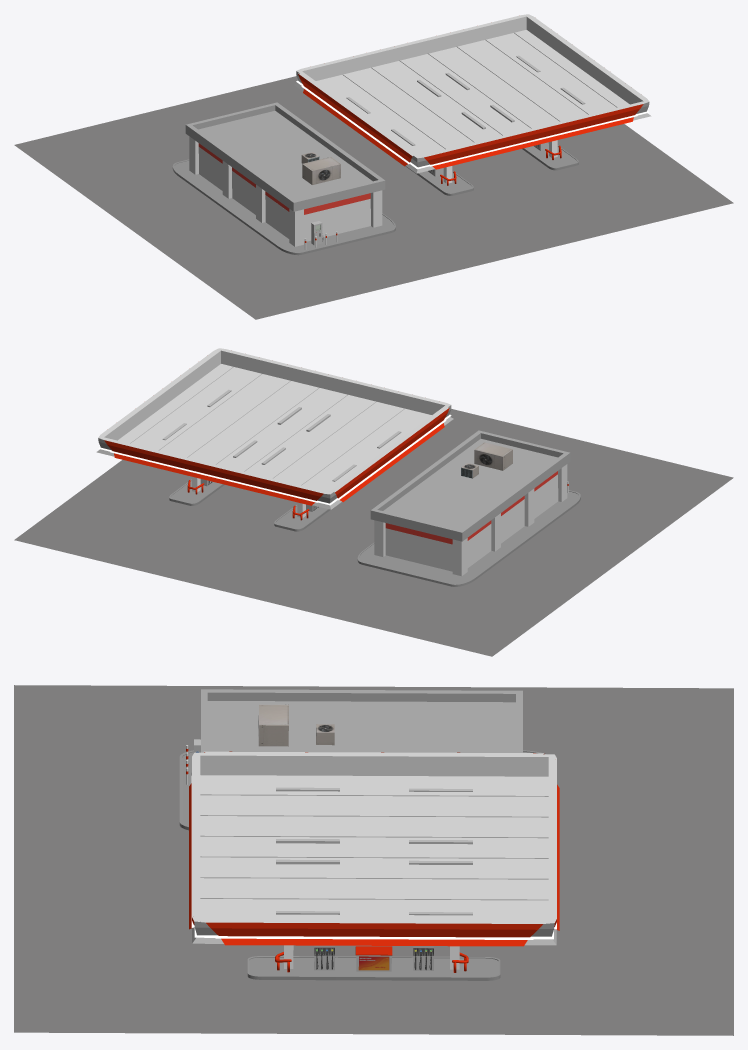
File: small-red-gas-station.glb
The picture shows the model from 3 angles, top to bottom: view 1: azimuth 30°, elevation 25°; view 2: azimuth 150°, elevation 25°; view 3: azimuth 270°, elevation 25°; orthographic projection. The views are drawn at different scales.
Parts seen in each view (by area): view 1: Plane, Plane.005, Plane.001, Plane.002, Plane.003, Plane.004; view 2: Plane, Plane.005, Plane.001, Plane.002, Plane.003, Plane.004; view 3: Plane, Plane.005, Plane.001, Plane.004, Cube.037, Plane.002, Cube.040, Cube.042.
Part boxes in pixels (bbox=[...]): Plane: bbox=[14, 76, 733, 319]; Plane.005: bbox=[294, 14, 651, 173]; Plane.001: bbox=[185, 102, 385, 246]; Plane.002: bbox=[172, 159, 395, 255]; Plane.003: bbox=[405, 166, 473, 195]; Plane.004: bbox=[522, 145, 578, 170]; Plane: bbox=[14, 409, 733, 656]; Plane.005: bbox=[96, 348, 453, 509]; Plane.001: bbox=[370, 430, 570, 576]; Plane.002: bbox=[357, 490, 580, 586]; Plane.003: bbox=[274, 505, 330, 531]; Plane.004: bbox=[169, 479, 224, 505]; Plane: bbox=[14, 685, 733, 1035]; Plane.005: bbox=[189, 751, 559, 946]; Plane.001: bbox=[201, 689, 522, 752]; Plane.004: bbox=[247, 956, 500, 980]; Cube.037: bbox=[355, 946, 392, 971]; Plane.002: bbox=[179, 750, 546, 830]; Cube.040: bbox=[276, 787, 339, 843]; Cube.042: bbox=[276, 859, 339, 914].
Size of the model in its own units: 49.5 by 6.44 by 43.34.
46 materials, 14 textured.
